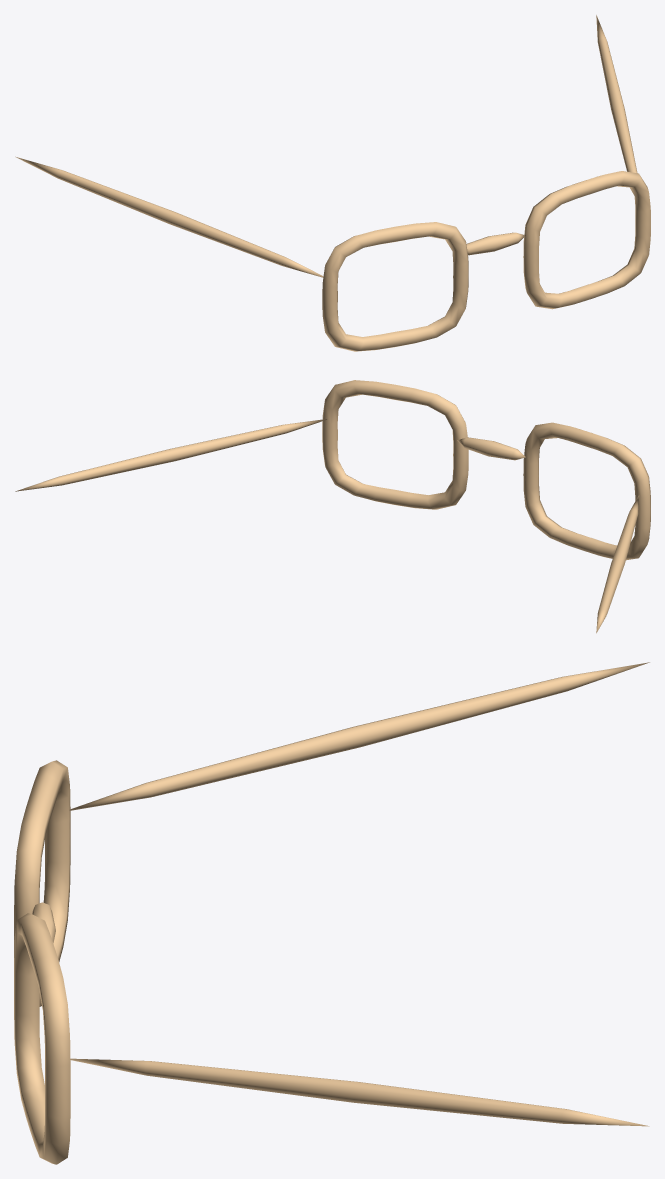
Rendered from glasses-square.glb.
The picture shows the model from 3 angles, top to bottom: view 1: azimuth 30°, elevation 25°; view 2: azimuth 150°, elevation 25°; view 3: azimuth 270°, elevation 25°; orthographic projection. The views are drawn at different scales.
Parts seen in each view (by area): view 1: glasses-square; view 2: glasses-square; view 3: glasses-square.
Part boxes in pixels (x1=…): glasses-square: x1=15, y1=15, x2=650, y2=351; glasses-square: x1=15, y1=380, x2=650, y2=633; glasses-square: x1=14, y1=662, x2=649, y2=1164.
Bounding box in the file's own units: 0.4706 × 0.093 × 0.2729.
